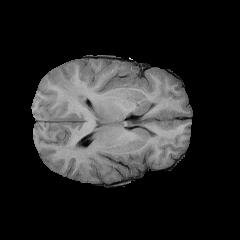glioma: (46, 69, 97, 161)
